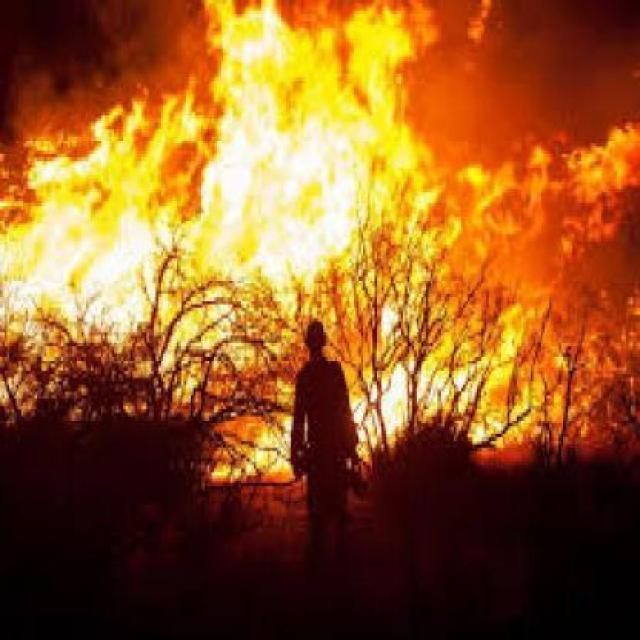Fire: (5, 4, 630, 486), (326, 295, 616, 482), (193, 350, 320, 506)
